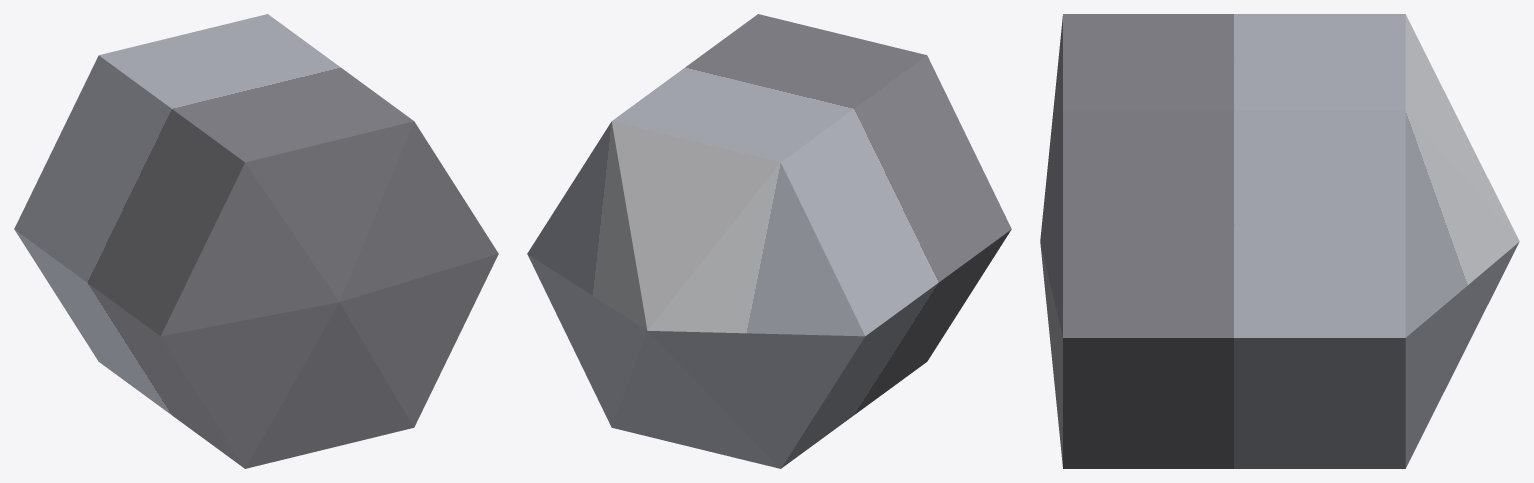
Rendered from Bullet.fbx.
The picture shows the model from 3 angles, left to right: view 1: azimuth 30°, elevation 25°; view 2: azimuth 150°, elevation 25°; view 3: azimuth 270°, elevation 25°; orthographic projection. The views are drawn at different scales.
Parts seen in each view (by area): view 1: sphere; view 2: sphere; view 3: sphere.
Part boxes in pixels (bbox=[...]): sphere: bbox=[14, 14, 498, 468]; sphere: bbox=[527, 14, 1011, 468]; sphere: bbox=[1040, 14, 1519, 468].
Bounding box in the file's own units: 12.5 × 10.83 × 13.12.
Materials: 1 (1 with a texture image).
